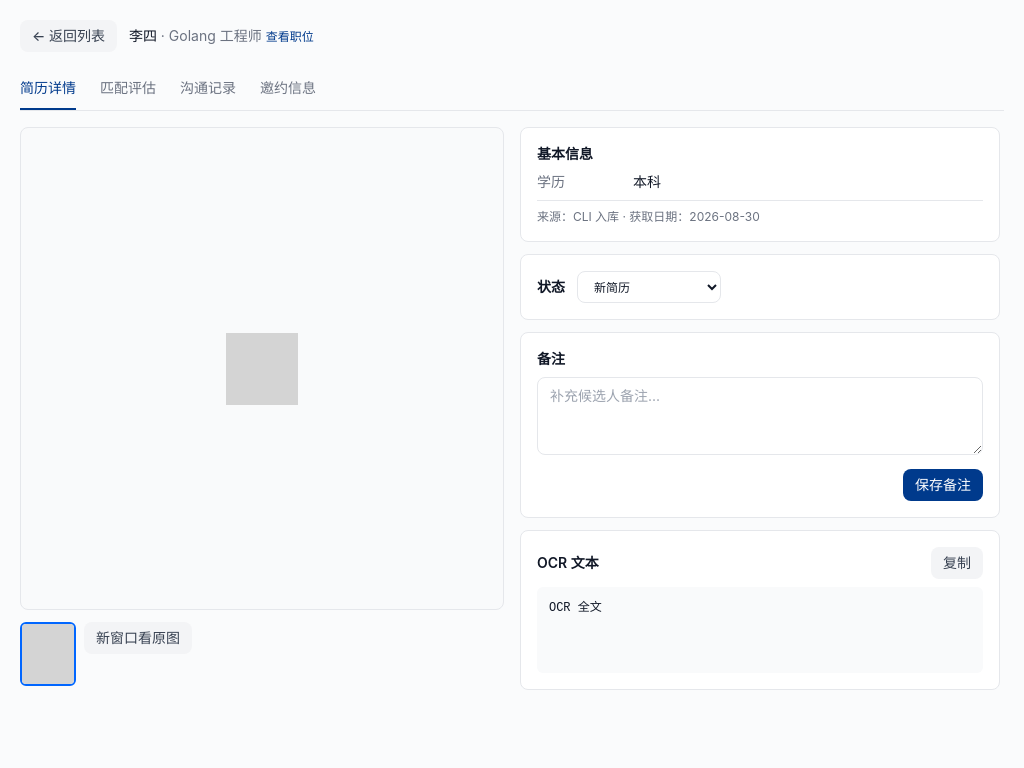
Test: ResumeDetail 挂载冒烟 › 沟通记录 tab 渲染时间线条目（方向/渠道徽标 + 内容）
The width and height of the screenshot is (1024, 768).
Step 1. Click the button "沟通记录" → (208, 89), box [180,68,236,110]
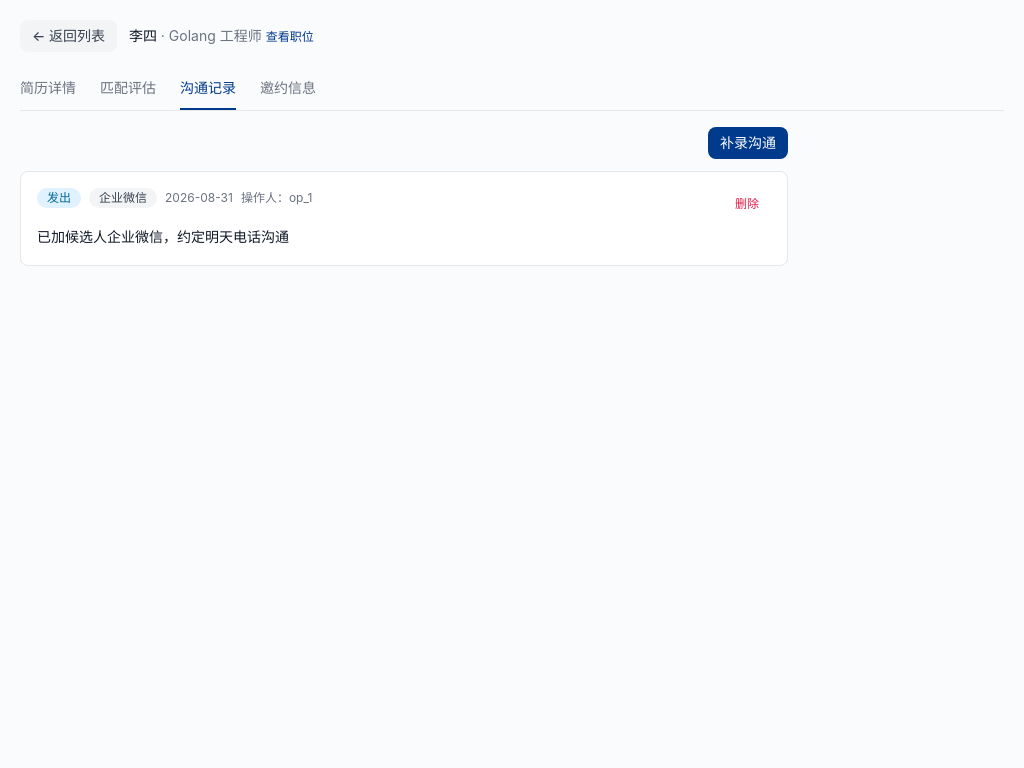
Now the text "发出" is shown, box [37,188,81,208]
Now the text "企业微信" is shown, box [89,188,157,208]
Now the text "已加候选人企业微信，约定明天电话沟通" is shown, box [37,228,289,245]
